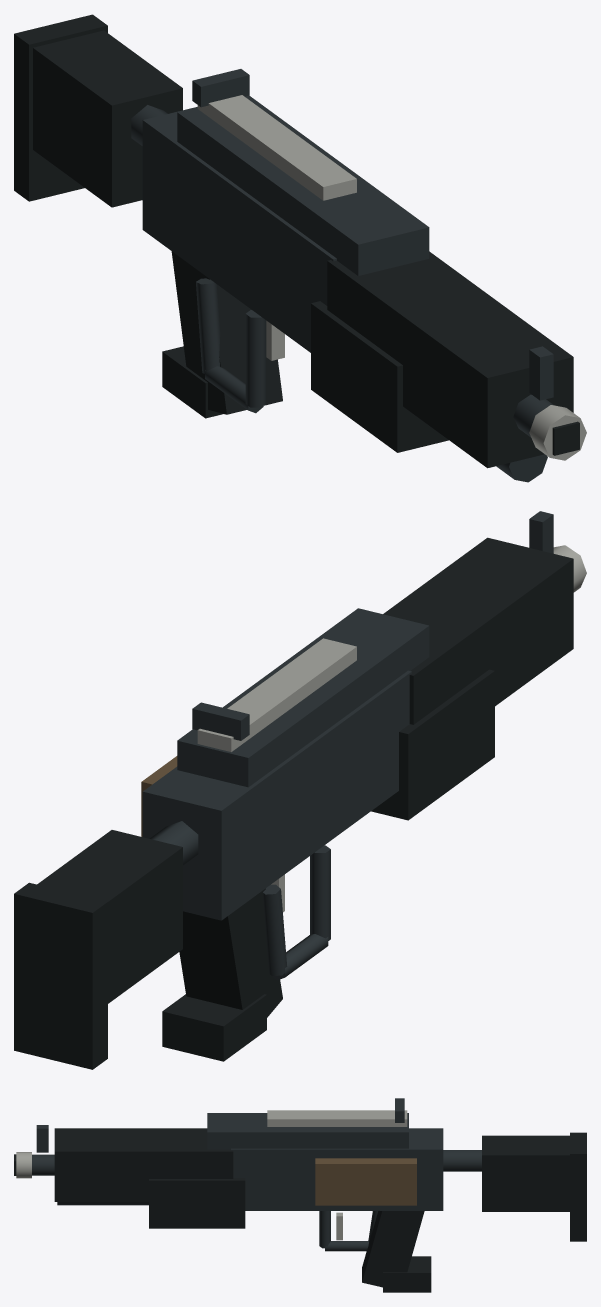
3 renders of one model, top to bottom at view 1: azimuth 30°, elevation 25°; view 2: azimuth 150°, elevation 25°; view 3: azimuth 270°, elevation 25°, orthographic. The views are drawn at different scales.
Visible parts, largest first — view 1: weapon-shotgun-1-painted, weapon-pump-painted; view 2: weapon-shotgun-1-painted, weapon-pump-painted; view 3: weapon-shotgun-1-painted, weapon-pump-painted.
Part boxes in pixels (x1,y1,x2,y2): weapon-shotgun-1-painted: (14, 14, 586, 482); weapon-pump-painted: (311, 301, 448, 452); weapon-shotgun-1-painted: (14, 511, 586, 1069); weapon-pump-painted: (371, 669, 494, 820); weapon-shotgun-1-painted: (14, 1098, 586, 1292); weapon-pump-painted: (149, 1178, 245, 1228).
Size of the model in its own units: 0.6294 by 1.71 by 4.95.
